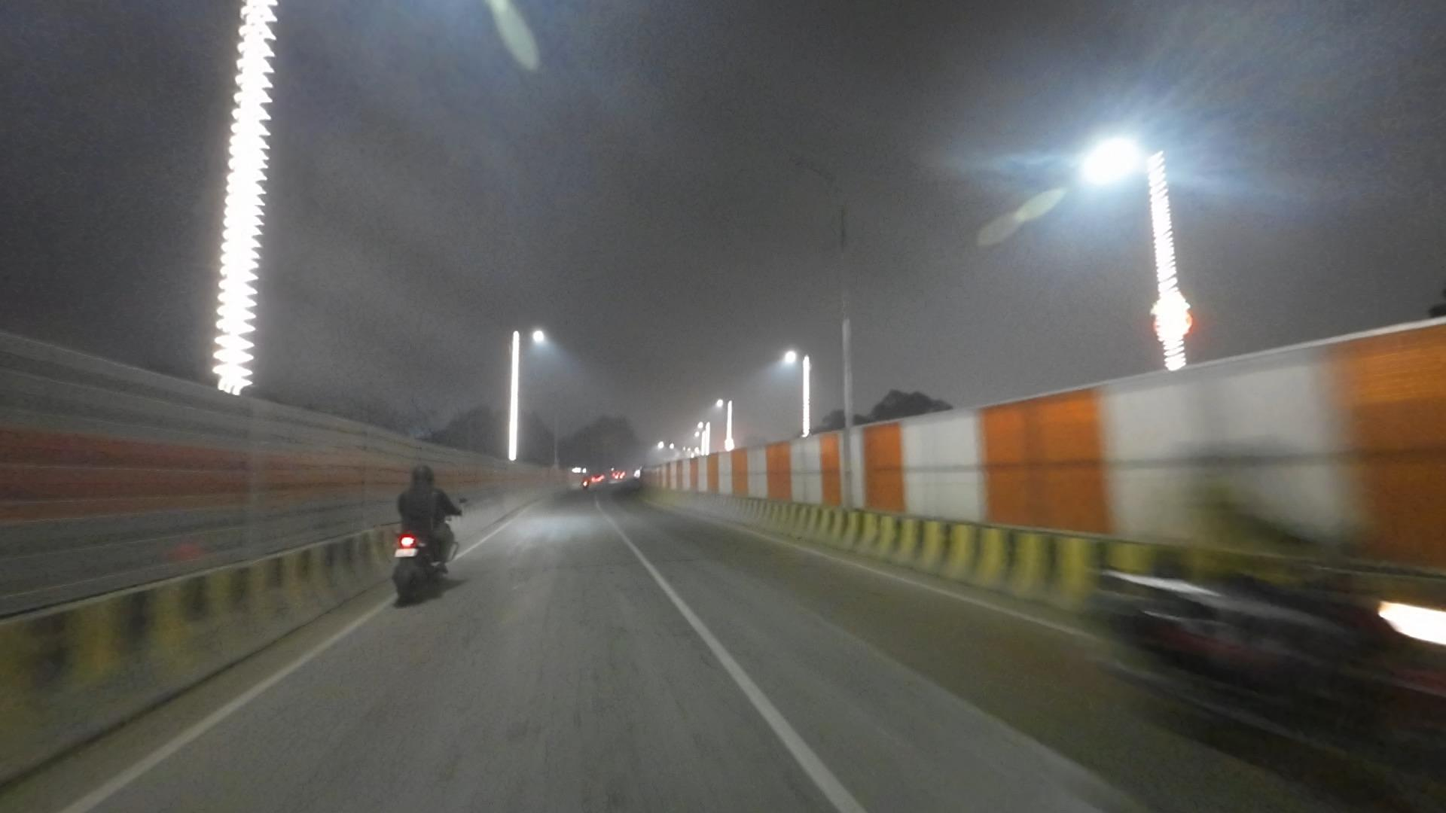streetlight: (784, 155, 840, 177)
